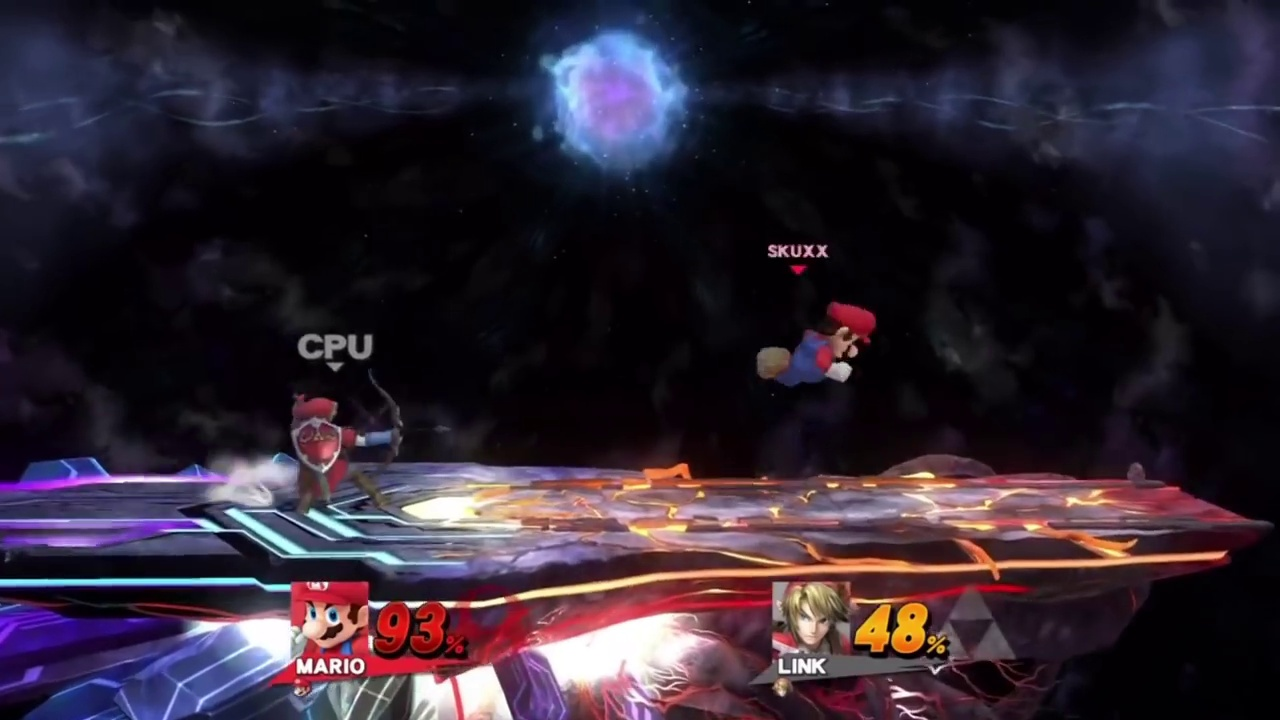Mario: (754, 300, 877, 385)
